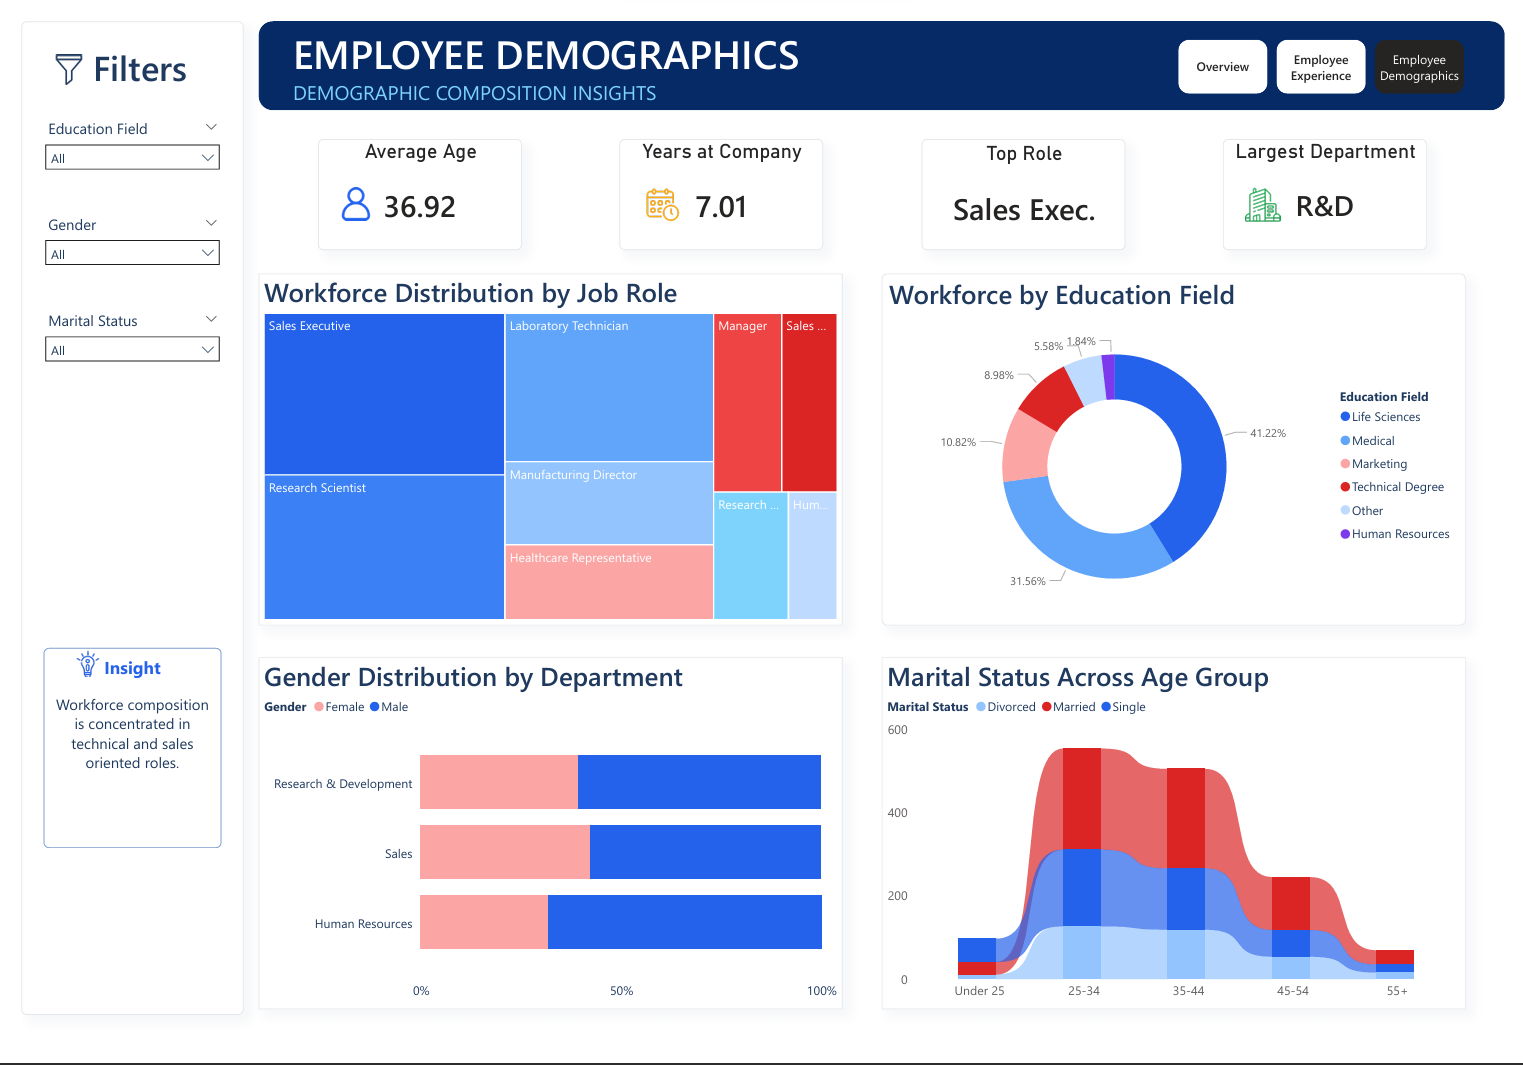

The page's visual inventory and layout, read from the dashboard file:
{"tool":"powerbi","page":{"name":"Employee Demographics","canvas":[1600,1100],"ordinal":2},"visuals":[{"type":"shape","box":[256,0,1344,96],"z":0},{"type":"cardVisual","title":"Average Age","fields":{"Data":["Avg(public employee_attrition.age)"]},"box":[320,127,220,120],"z":1000},{"type":"textbox","box":[288,0,600,96],"z":2000},{"type":"cardVisual","title":"Years at Company","fields":{"Data":["Avg(public employee_attrition.years_at_company)"]},"box":[645.3,127,220,120],"z":3000},{"type":"pageNavigator","box":[1248,20,308,58],"z":4000},{"type":"cardVisual","title":"Largest Department","fields":{"Data":["public employee_attrition.Largest Department"]},"box":[1296,127,220,120],"z":5000},{"type":"treemap","title":"Workforce Distribution by Job Role","fields":{"Group":["public employee_attrition.job_role"],"Values":["CountNonNull(public employee_attrition.employee_number)"]},"box":[256,272,630,380],"z":6000},{"type":"shape","box":[0,0,240,1072],"z":7000},{"type":"slicer","fields":{"Values":["public employee_attrition.education_field"]},"box":[16.2,99.8,208,95],"z":8000},{"type":"slicer","fields":{"Values":["public employee_attrition.gender"]},"box":[16.2,203.1,208,96],"z":9000},{"type":"slicer","fields":{"Values":["public employee_attrition.marital_status"]},"box":[16.2,307.3,208,96],"z":10000},{"type":"textbox","box":[64,20,128,64],"z":11000},{"type":"image","box":[35,36,33,33],"z":12000},{"type":"textbox","box":[24,676,192,216],"z":13000},{"type":"image","box":[58,680,28,28],"z":14000},{"type":"donutChart","title":"Workforce by Education Field","fields":{"Category":["public employee_attrition.education_field"],"Y":["CountNonNull(public employee_attrition.employee_number)"]},"box":[928,272,630,380],"z":15000},{"type":"cardVisual","title":"Top Role","fields":{"Data":["public employee_attrition.Top Role"]},"box":[970.7,127,220,120],"z":16000},{"type":"hundredPercentStackedBarChart","title":"Gender Distribution by Department","fields":{"Category":["public employee_attrition.department"],"Y":["CountNonNull(public employee_attrition.employee_number)"],"Series":["public employee_attrition.gender"]},"box":[256,686,630,380],"z":17000},{"type":"ribbonChart","title":"Marital Status Across Age Group","fields":{"Y":["Sum(public vw_age_demographics.total_employees)"],"Series":["public vw_age_demographics.marital_status"],"Category":["public vw_age_demographics.age_group"]},"box":[928,686,630,380],"z":18000},{"type":"image","box":[343,179,36,36],"z":19000},{"type":"image","box":[673,179,38,38],"z":20000},{"type":"image","box":[1320,179,38,38],"z":21000}]}

Visuals, with their boxes in screenshot pixels (x1, y1, x2, y2), scaled from the page's 1600x1100 canvas onto the 1523x1065 screenshot:
shape: region(244, 0, 1522, 93)
"Average Age" cardVisual: region(305, 123, 514, 239)
textbox: region(274, 0, 845, 93)
"Years at Company" cardVisual: region(614, 123, 824, 239)
pageNavigator: region(1188, 19, 1481, 76)
"Largest Department" cardVisual: region(1234, 123, 1443, 239)
"Workforce Distribution by Job Role" treemap: region(244, 263, 843, 631)
shape: region(0, 0, 228, 1038)
slicer - public employee_attrition.education_field: region(15, 97, 213, 189)
slicer - public employee_attrition.gender: region(15, 197, 213, 290)
slicer - public employee_attrition.marital_status: region(15, 298, 213, 390)
textbox: region(61, 19, 183, 81)
image: region(33, 35, 65, 67)
textbox: region(23, 654, 206, 864)
image: region(55, 658, 82, 685)
"Workforce by Education Field" donutChart: region(883, 263, 1483, 631)
"Top Role" cardVisual: region(924, 123, 1133, 239)
"Gender Distribution by Department" hundredPercentStackedBarChart: region(244, 664, 843, 1032)
"Marital Status Across Age Group" ribbonChart: region(883, 664, 1483, 1032)
image: region(326, 173, 361, 208)
image: region(641, 173, 677, 210)
image: region(1256, 173, 1293, 210)
